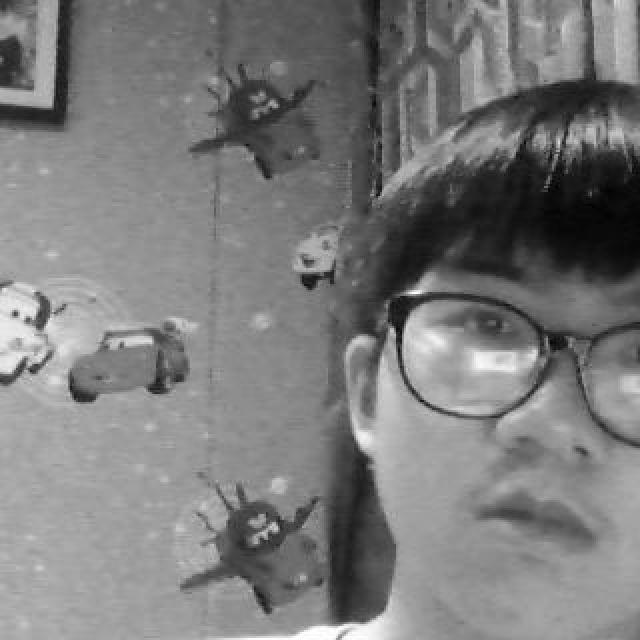Focused: (346, 84, 640, 626)
